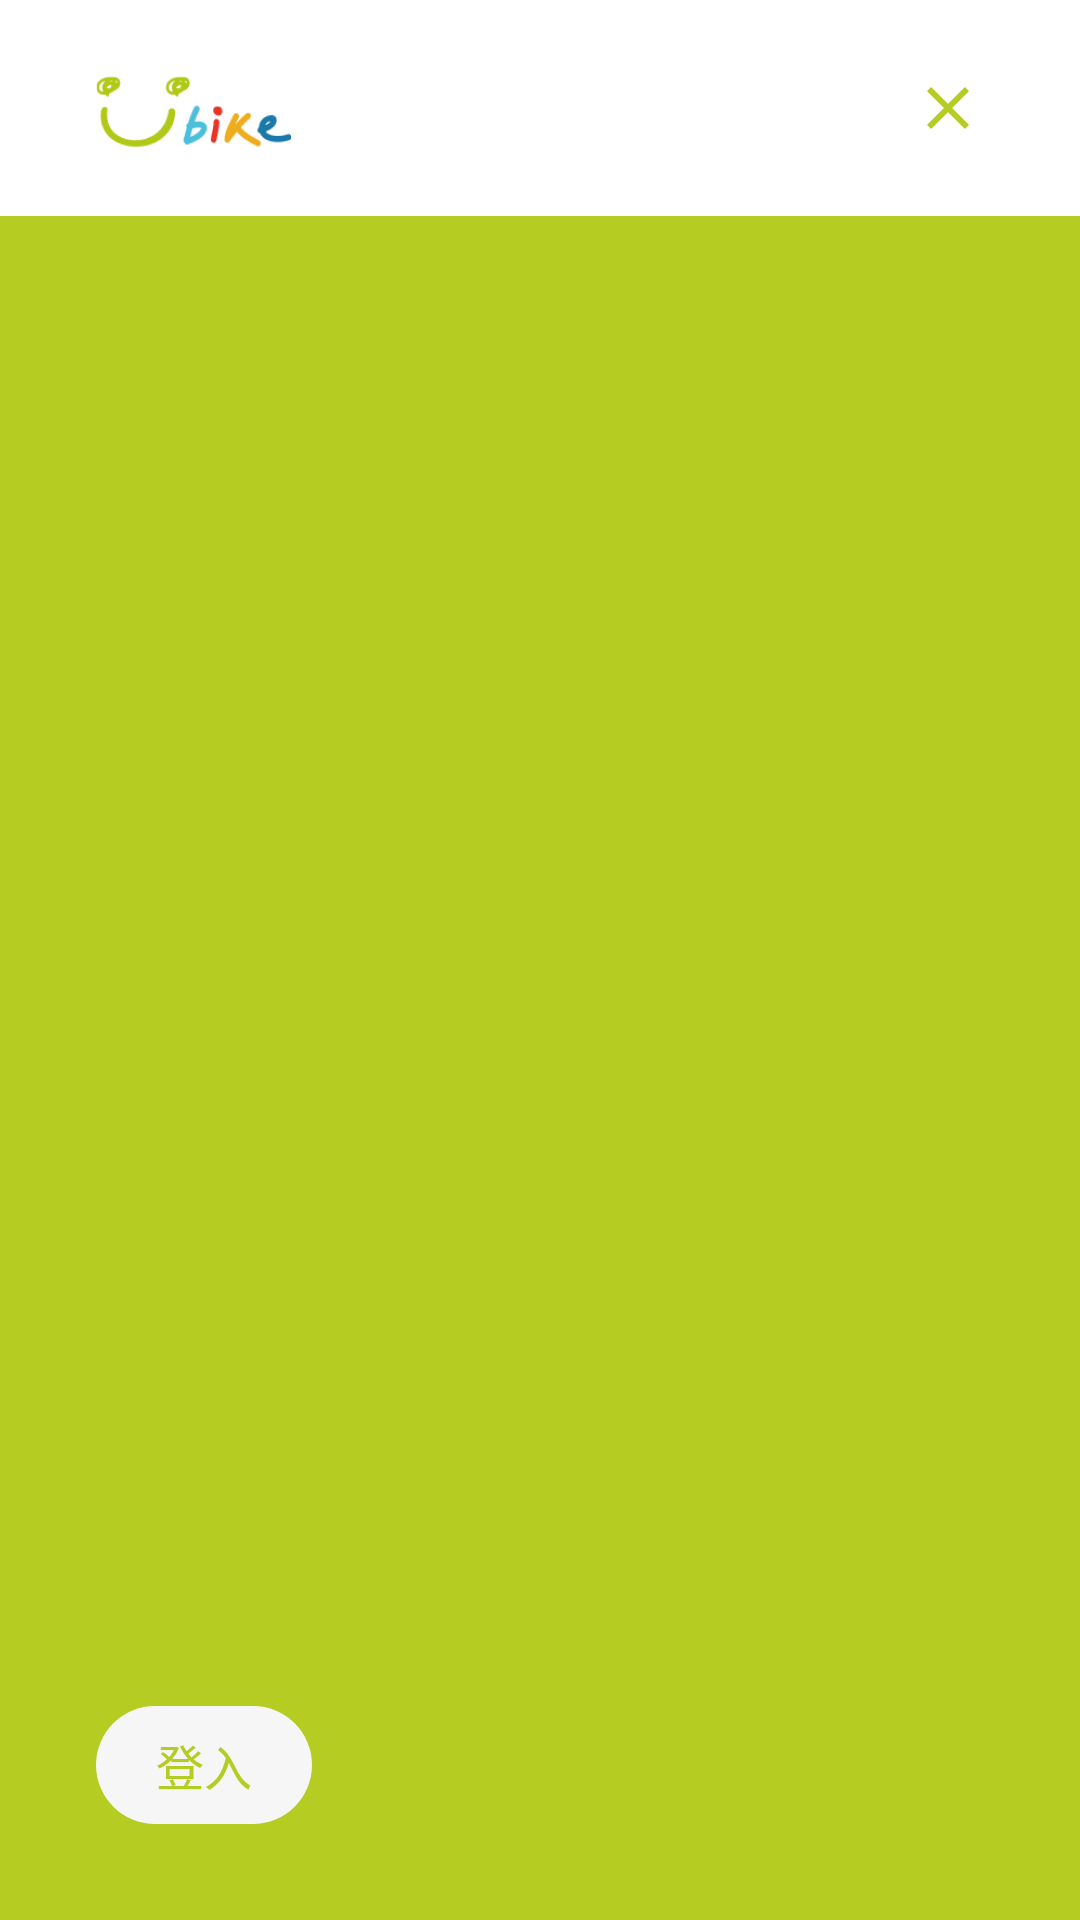

Screen size 1080 × 1920. Icon name, then its center in pixels as [x,y]:
cancel: [948,108]
